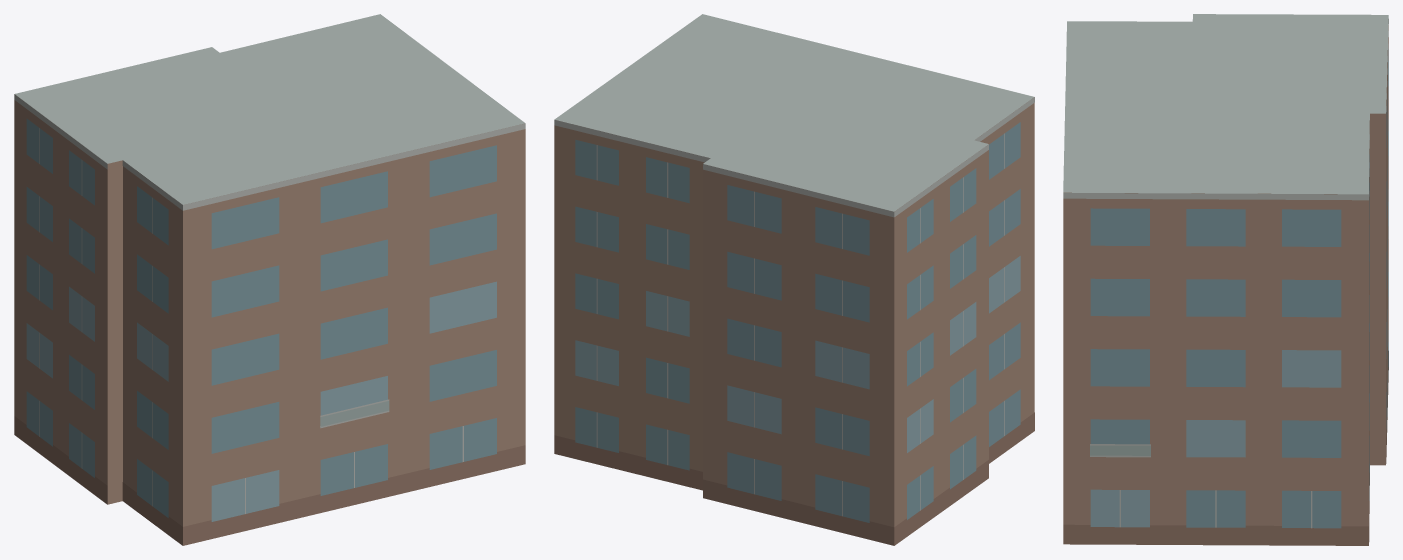
The model's file is survey-upis-32744794.glb.
The picture shows the model from 3 angles, left to right: view 1: azimuth 30°, elevation 25°; view 2: azimuth 150°, elevation 25°; view 3: azimuth 270°, elevation 25°; orthographic projection. The views are drawn at different scales.
Parts seen in each view (by area): view 1: survey-upis-32744794.tmp; view 2: survey-upis-32744794.tmp; view 3: survey-upis-32744794.tmp.
Part boxes in pixels (<box>): survey-upis-32744794.tmp: <box>14,14,525,545</box>; survey-upis-32744794.tmp: <box>554,14,1034,545</box>; survey-upis-32744794.tmp: <box>1063,14,1388,545</box>.
Bounding box in the file's own units: 15.84 × 14.4 × 12.1.
